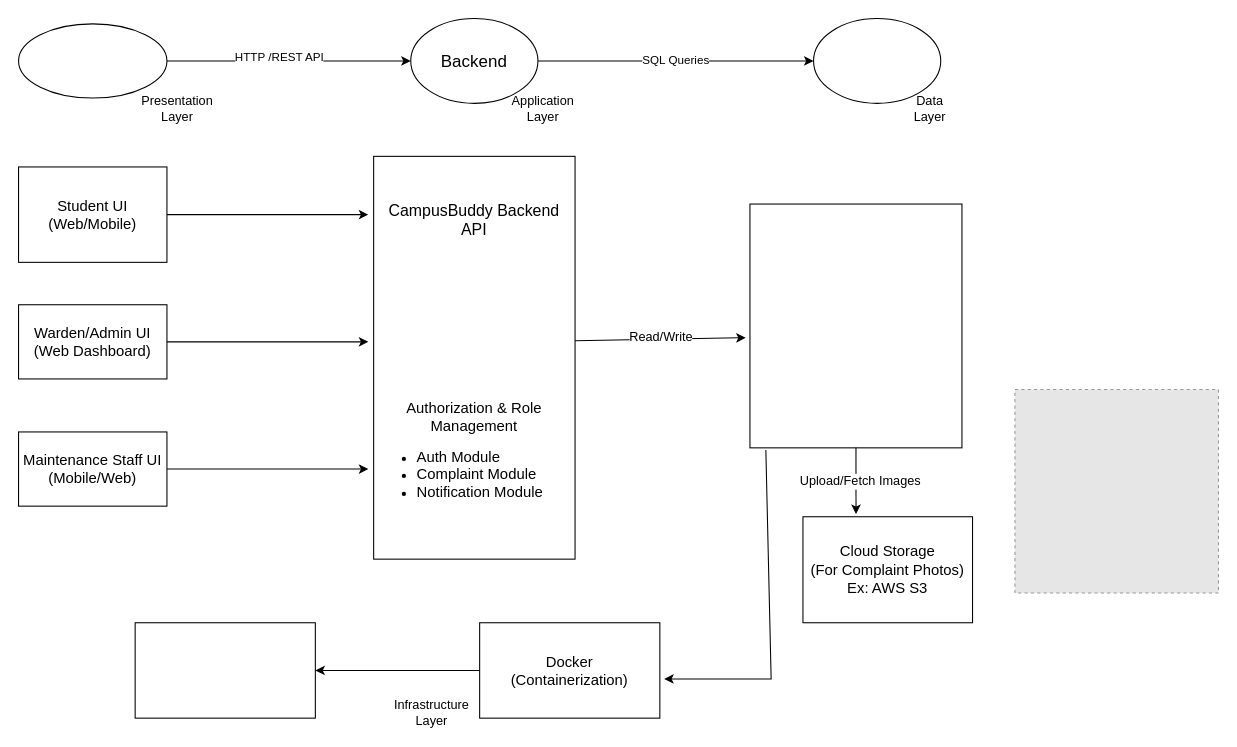
The diagram is 1237 pixels wide and 747 high, and some of its shapes have lost their labels. Grey dashed boxes stand in for pictures. Each missing label, with the centre of its shape:
Database: point (876, 60)
Database(MySQL ) Stores: Users Rooms Complaints Staff Tasks: point (855, 325)
Deployment (Cloud/College Server): point (224, 670)
Frontend(Users): point (92, 60)
